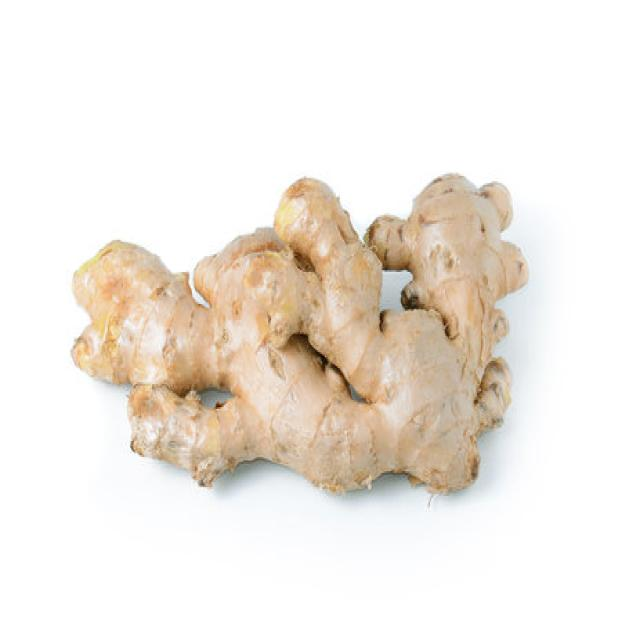Ginger: (69, 169, 530, 496)
